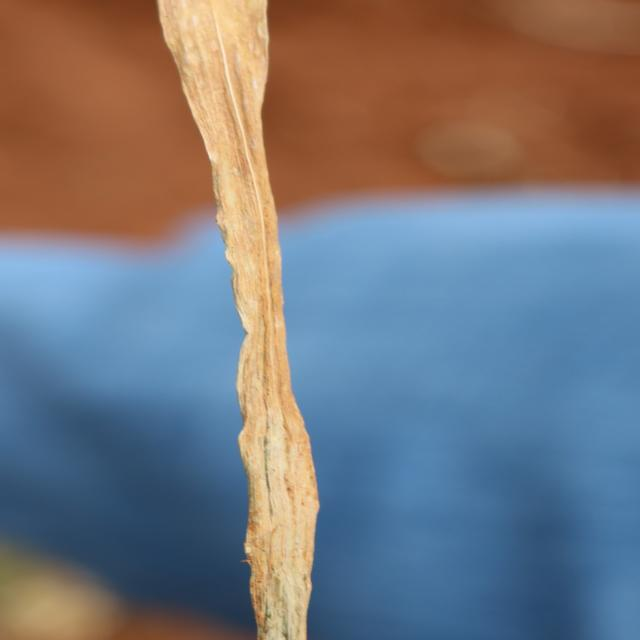Septoria: (210, 118, 287, 433), (160, 0, 266, 103), (248, 446, 312, 608)
